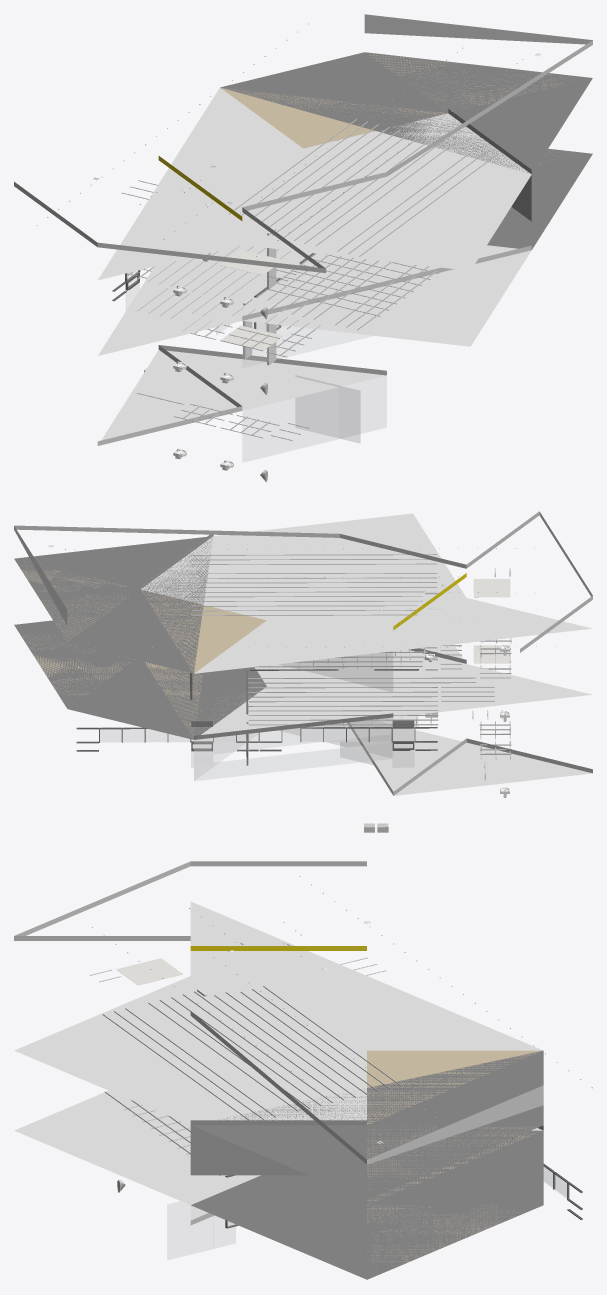
File: pt-111-puesto-mando-shell-p04-v00.glb
3 views of the same model, one above another, from view 1: azimuth 30°, elevation 25°; view 2: azimuth 150°, elevation 25°; view 3: azimuth 270°, elevation 25° (orthographic). The views are drawn at different scales.
Parts seen in each view (by area): view 1: object 10, object 12, object 9, object 1, object 2, 0wkauZukDDZA6_VkgNyv49, 3CS9b19m94KgFhPAAJmifk, object 3, 3PW9JMFV9DjxGi_fYDGUPT, 0wkauZukDDZA6_VkgNyv4B, 3PW9JMFV9DjxGi_fYDGUO9; view 2: object 10, object 12, object 2, object 9, object 8, object 1, 3PW9JMFV9DjxGi_fYDGUO9, 3PW9JMFV9DjxGi_fYDGUPT, 2s437fmjzDZR6wr6nadfGj, 3PW9JMFV9DjxGi_fYDGUaJ, 2s437fmjzDZR6wr6nadfJT; view 3: object 10, object 12, object 9, object 3, 0wkauZukDDZA6_VkgNyv49, 3PW9JMFV9DjxGi_fYDGUO9, object 1, 3CS9b19m94KgFhPAAJmifk, 0wkauZukDDZA6_VkgNyv4B.
Boxes of the visible parts, x1=… form: object 10: x1=98, y1=88, x2=531, y2=440; object 12: x1=220, y1=52, x2=592, y2=249; object 9: x1=14, y1=14, x2=592, y2=445; object 1: x1=158, y1=156, x2=386, y2=462; object 2: x1=242, y1=321, x2=371, y2=367; 0wkauZukDDZA6_VkgNyv49: x1=339, y1=386, x2=360, y2=442; 3CS9b19m94KgFhPAAJmifk: x1=317, y1=380, x2=338, y2=437; object 3: x1=448, y1=109, x2=531, y2=221; 3PW9JMFV9DjxGi_fYDGUPT: x1=220, y1=325, x2=283, y2=350; 0wkauZukDDZA6_VkgNyv4B: x1=295, y1=375, x2=316, y2=432; 3PW9JMFV9DjxGi_fYDGUO9: x1=220, y1=250, x2=283, y2=275; object 10: x1=141, y1=513, x2=592, y2=795; object 12: x1=14, y1=537, x2=266, y2=739; object 2: x1=194, y1=651, x2=393, y2=780; object 9: x1=14, y1=511, x2=592, y2=795; object 8: x1=194, y1=713, x2=393, y2=739; object 1: x1=340, y1=573, x2=466, y2=764; 3PW9JMFV9DjxGi_fYDGUO9: x1=473, y1=579, x2=510, y2=597; 3PW9JMFV9DjxGi_fYDGUPT: x1=473, y1=645, x2=509, y2=663; 2s437fmjzDZR6wr6nadfGj: x1=191, y1=591, x2=436, y2=592; 3PW9JMFV9DjxGi_fYDGUaJ: x1=248, y1=682, x2=476, y2=683; 2s437fmjzDZR6wr6nadfJT: x1=191, y1=554, x2=436, y2=555; object 10: x1=14, y1=901, x2=542, y2=1220; object 12: x1=191, y1=1050, x2=543, y2=1279; object 9: x1=14, y1=861, x2=543, y2=1225; object 3: x1=190, y1=1120, x2=366, y2=1175; 0wkauZukDDZA6_VkgNyv49: x1=167, y1=1201, x2=189, y2=1259; 3PW9JMFV9DjxGi_fYDGUO9: x1=116, y1=958, x2=182, y2=985; object 1: x1=190, y1=946, x2=366, y2=950; 3CS9b19m94KgFhPAAJmifk: x1=190, y1=1216, x2=212, y2=1254; 0wkauZukDDZA6_VkgNyv4B: x1=213, y1=1216, x2=235, y2=1248.
Size of what is drawn, in the model's own units: 32.51 by 13.5 by 26.23.
